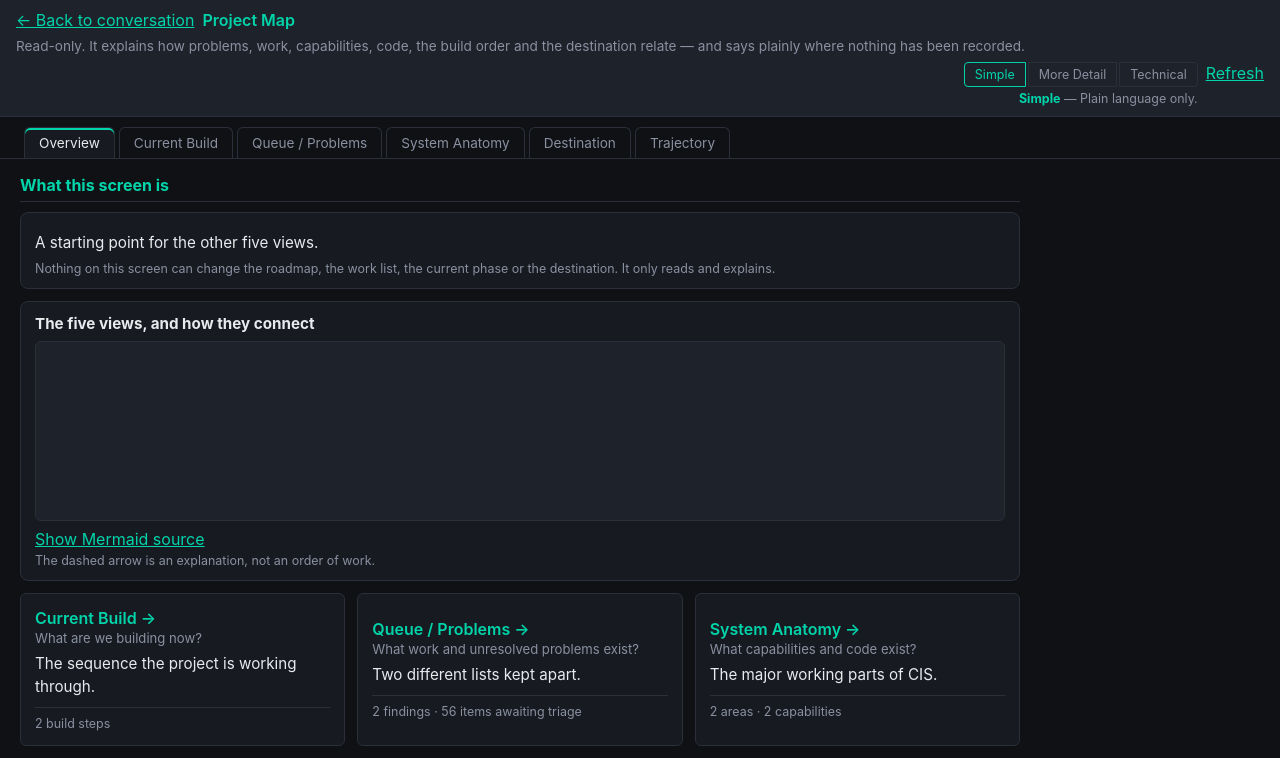
Test: ProjectMap — Current Build area reuses the Build Path view › says it is the existing view rather than a second copy
Step 1. Click the tab "Current Build" → [176, 142], box [119,127,233,158]
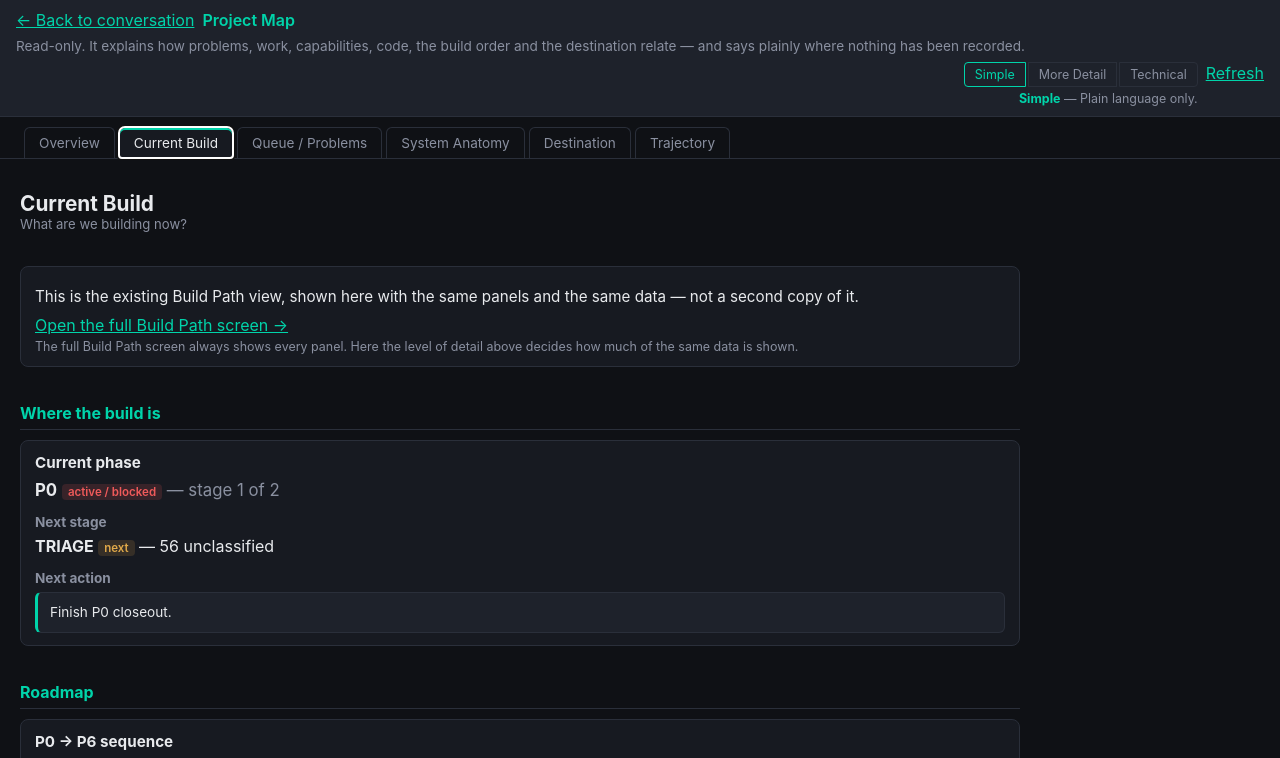
expect the text "not a second copy of it" is shown: met, box [35,287,859,306]
expect the button "Open the full Build Path screen →" is shown: met, box [35,315,288,335]
